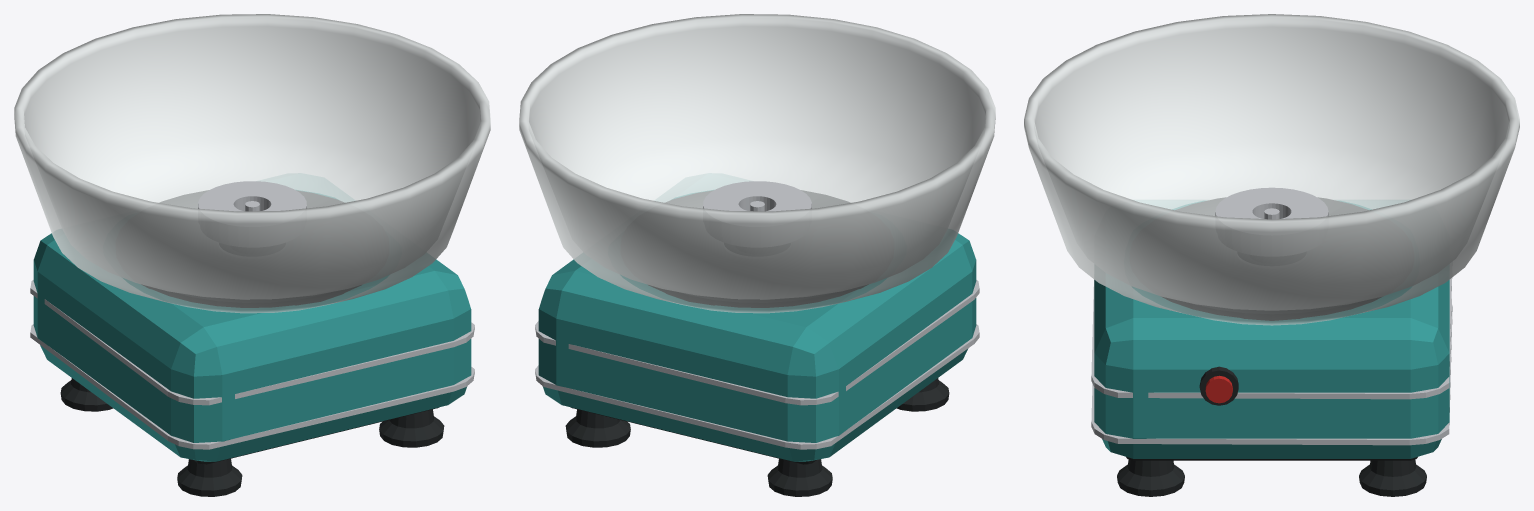
The model's file is A-NEW-20261026-COTTON-CANDY-MACHINE-001_LOD2_R3.fbx.
3 renders of one model, left to right at view 1: azimuth 30°, elevation 25°; view 2: azimuth 150°, elevation 25°; view 3: azimuth 270°, elevation 25°, orthographic. The views are drawn at different scales.
Parts seen in each view (by area): view 1: open milky bowl with complete inner wall, rounded housing, continuous silver band 0.037, continuous silver band 0.063, extractor rim and circular well, bowl support seat, splayed suction style foot -0.062 -0.062, splayed suction style foot 0.062 -0.062, splayed suction style foot -0.062 0.062; view 2: open milky bowl with complete inner wall, rounded housing, continuous silver band 0.037, continuous silver band 0.063, extractor rim and circular well, bowl support seat, splayed suction style foot -0.062 0.062, splayed suction style foot 0.062 0.062, splayed suction style foot -0.062 -0.062; view 3: open milky bowl with complete inner wall, rounded housing, continuous silver band 0.037, extractor rim and circular well, continuous silver band 0.063, bowl support seat, splayed suction style foot 0.062 -0.062, splayed suction style foot 0.062 0.062, right switch mounting rim, red rounded rocker cue, generic closed underside.
Part boxes in pixels (bbox=[...]): open milky bowl with complete inner wall: bbox=[14, 14, 490, 313]; rounded housing: bbox=[33, 189, 471, 461]; continuous silver band 0.037: bbox=[30, 324, 474, 449]; continuous silver band 0.063: bbox=[30, 280, 474, 405]; extractor rim and circular well: bbox=[198, 181, 306, 211]; bowl support seat: bbox=[143, 190, 360, 307]; splayed suction style foot -0.062 -0.062: bbox=[177, 458, 242, 496]; splayed suction style foot 0.062 -0.062: bbox=[379, 409, 444, 447]; splayed suction style foot -0.062 0.062: bbox=[60, 378, 113, 411]; open milky bowl with complete inner wall: bbox=[519, 14, 995, 313]; rounded housing: bbox=[538, 189, 976, 461]; continuous silver band 0.037: bbox=[535, 324, 979, 449]; continuous silver band 0.063: bbox=[535, 280, 979, 405]; extractor rim and circular well: bbox=[703, 181, 811, 211]; bowl support seat: bbox=[649, 190, 866, 307]; splayed suction style foot -0.062 0.062: bbox=[767, 458, 832, 496]; splayed suction style foot 0.062 0.062: bbox=[565, 409, 630, 447]; splayed suction style foot -0.062 -0.062: bbox=[896, 378, 949, 411]; open milky bowl with complete inner wall: bbox=[1024, 14, 1519, 325]; rounded housing: bbox=[1094, 200, 1449, 458]; continuous silver band 0.037: bbox=[1091, 304, 1452, 445]; extractor rim and circular well: bbox=[1215, 187, 1328, 218]; continuous silver band 0.063: bbox=[1091, 278, 1452, 399]; bowl support seat: bbox=[1163, 197, 1380, 320]; splayed suction style foot 0.062 -0.062: bbox=[1117, 459, 1184, 496]; splayed suction style foot 0.062 0.062: bbox=[1359, 459, 1426, 496]; right switch mounting rim: bbox=[1199, 366, 1238, 405]; red rounded rocker cue: bbox=[1205, 375, 1232, 403]; generic closed underside: bbox=[1126, 457, 1417, 460].
Size of the model in its own units: 25.4 by 17.7 by 25.4.
